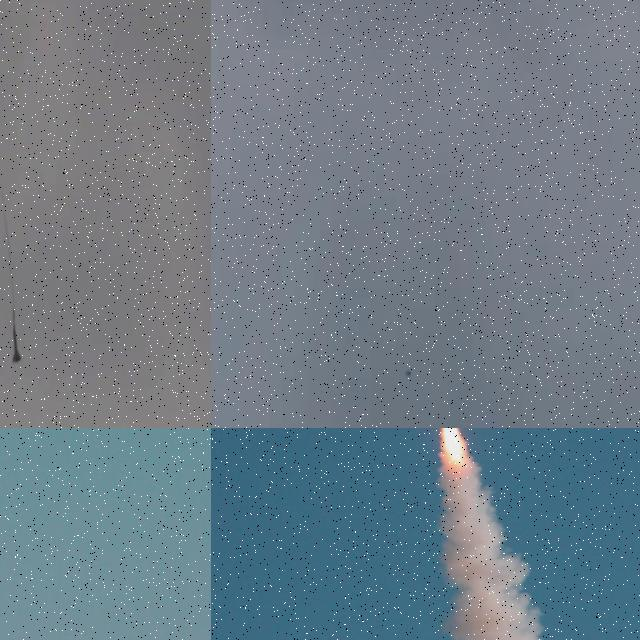Rocket: (13, 326, 20, 362), (405, 371, 411, 376)
